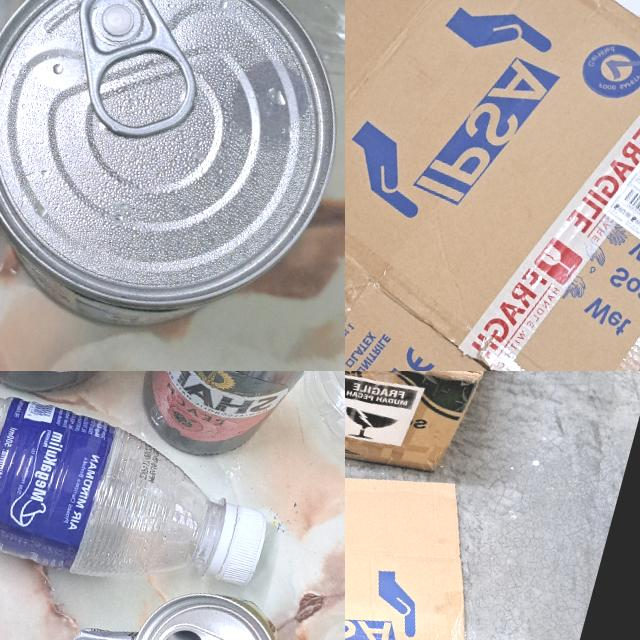aba de lata: (50, 0, 219, 152)
garrafa de vidro: (123, 371, 345, 490)
garrafa plástica: (0, 371, 234, 606), (111, 0, 345, 104)
lata: (0, 0, 345, 370), (33, 554, 298, 640)
papel: (383, 0, 640, 91)
papelão: (345, 0, 640, 371), (345, 398, 566, 640), (345, 371, 498, 497)
tampa plástica: (206, 499, 269, 590)
